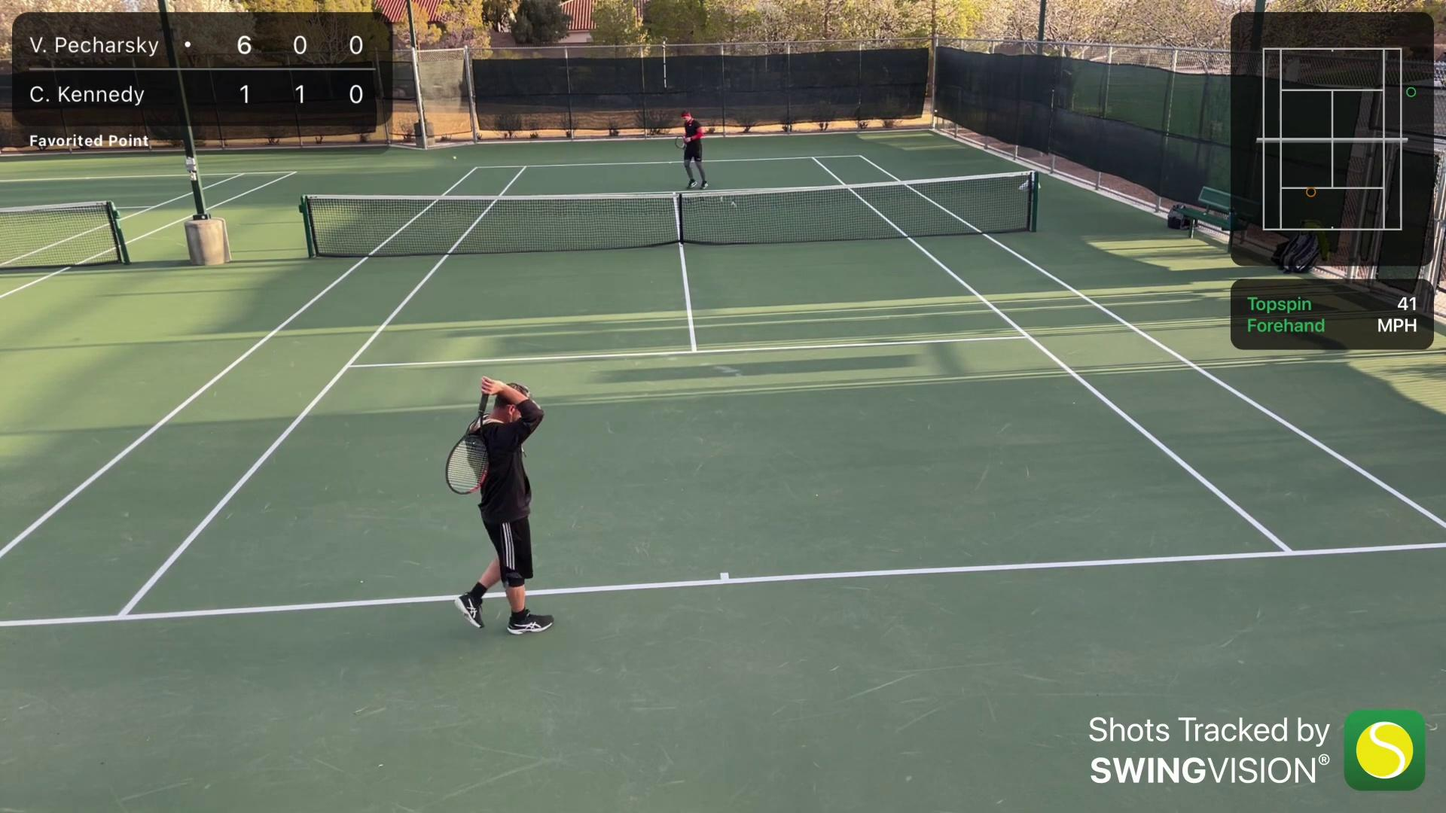ball: (932, 107, 939, 114), (451, 155, 457, 161)
